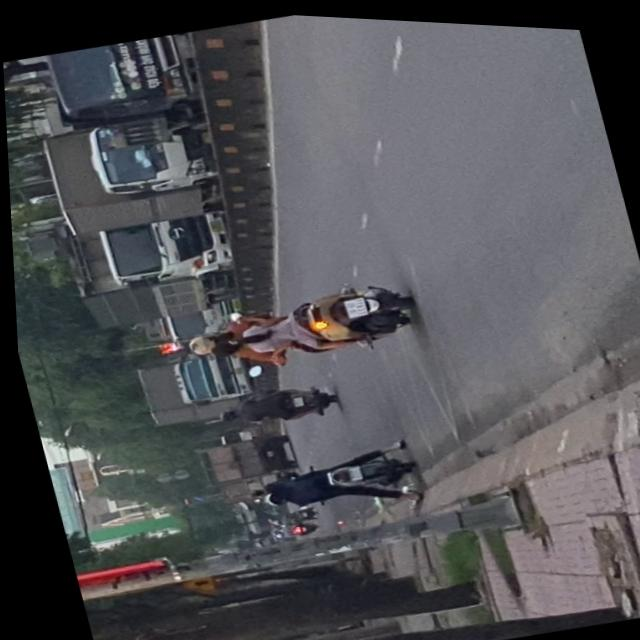helmet: (180, 326, 220, 355)
licenseplate: (170, 260, 419, 383)
motorcyclist: (207, 329, 247, 355)
nohelmet: (339, 290, 365, 313)
